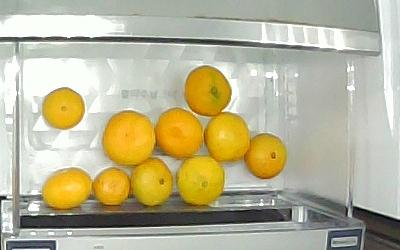tangerine: (102, 110, 155, 165), (184, 64, 232, 117), (156, 108, 203, 158), (178, 156, 225, 206), (205, 111, 251, 161), (43, 167, 93, 209), (132, 158, 173, 207), (41, 87, 85, 130), (245, 134, 287, 179), (92, 167, 130, 206)
